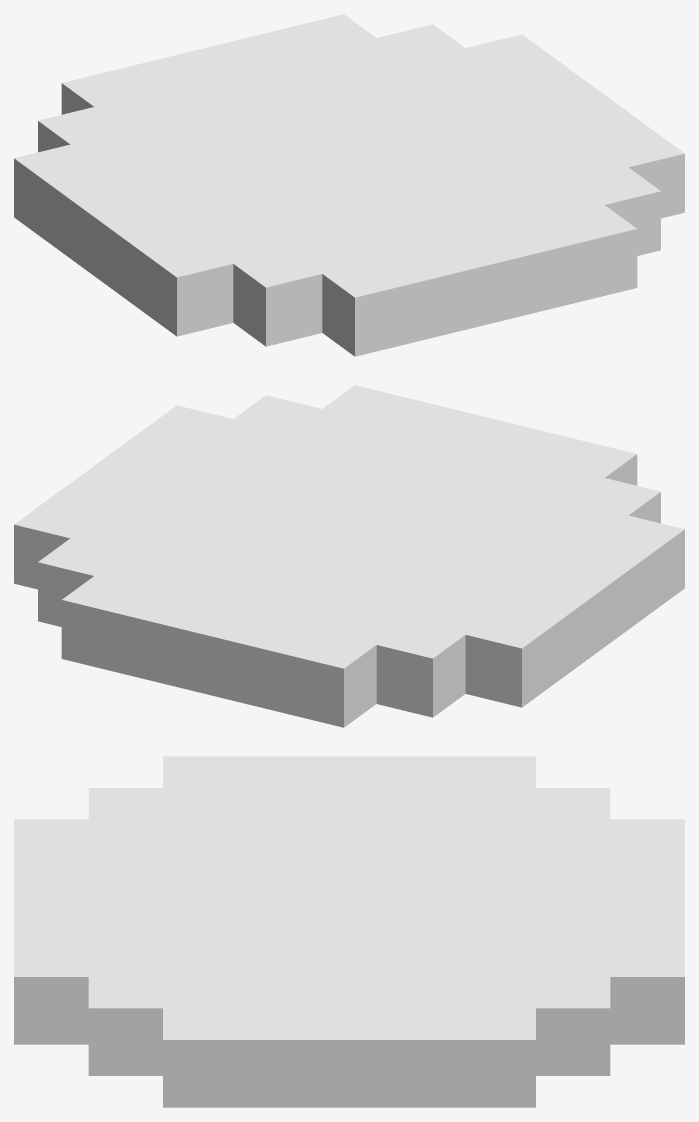
3 renders of one model, top to bottom at view 1: azimuth 30°, elevation 25°; view 2: azimuth 150°, elevation 25°; view 3: azimuth 270°, elevation 25°, orthographic. The views are drawn at different scales.
Size of the model in its own units: 9 by 1 by 9.
